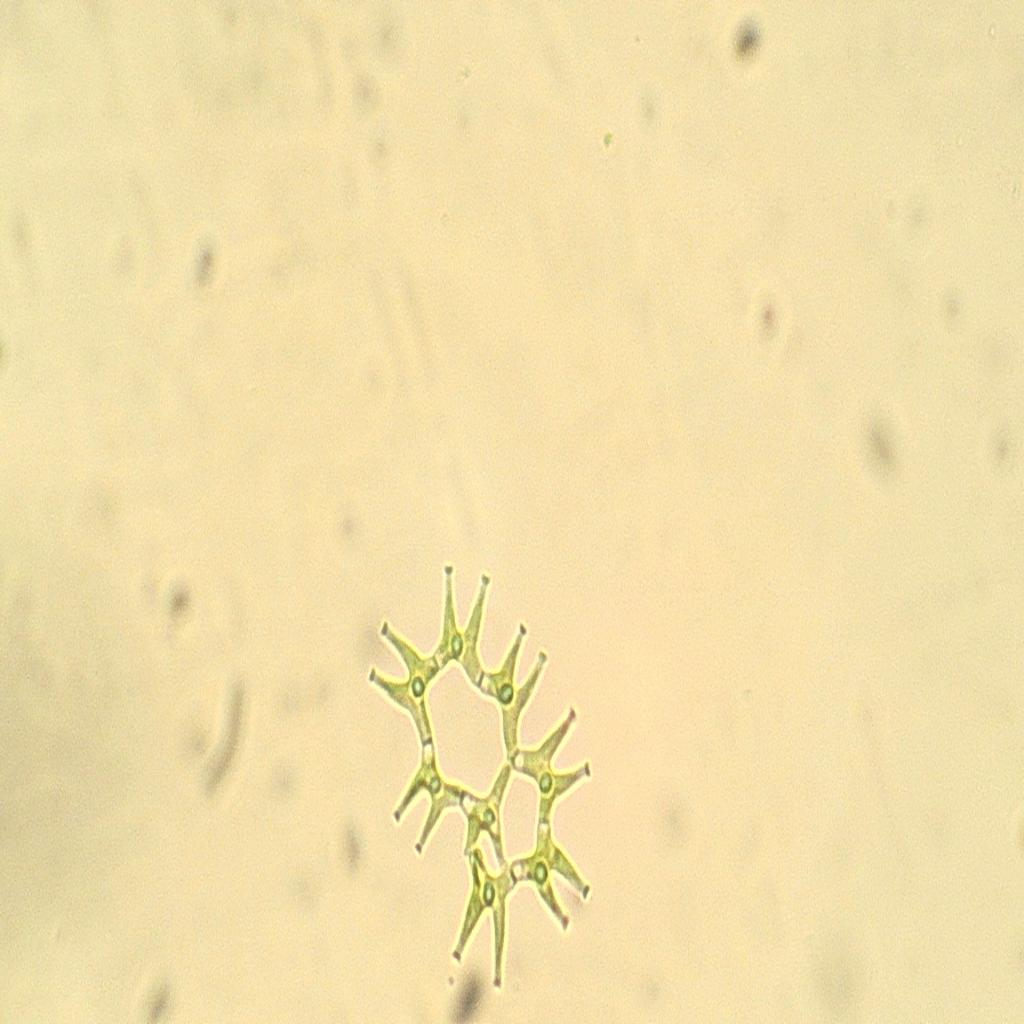Pediastrum_CFI: (353, 538, 608, 998)
